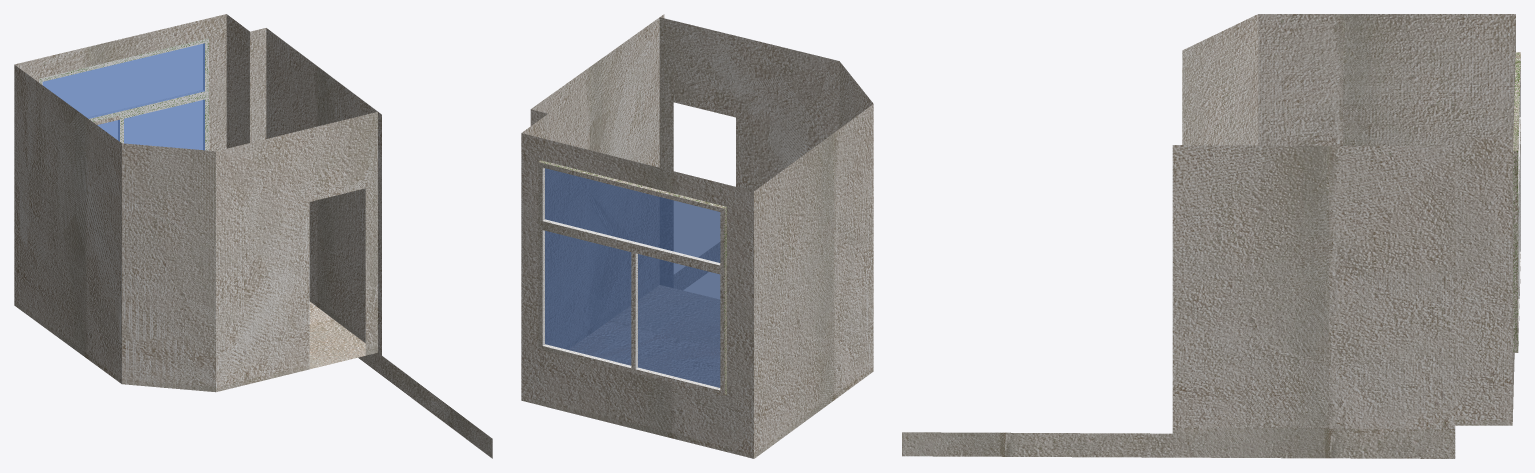
File: DES022.obj
The picture shows the model from 3 angles, left to right: view 1: azimuth 30°, elevation 25°; view 2: azimuth 150°, elevation 25°; view 3: azimuth 270°, elevation 25°; orthographic projection. The views are drawn at different scales.
Visible parts, largest first — view 1: Mesh7 DES022 Model, Mesh1 ventana1_1_1 DES022 Model; view 2: Mesh7 DES022 Model, Mesh1 ventana1_1_1 DES022 Model; view 3: Mesh7 DES022 Model, Mesh1 ventana1_1_1 DES022 Model.
Part boxes in pixels (x1,y1,x2,y2): Mesh7 DES022 Model: (14,14,492,458); Mesh1 ventana1_1_1 DES022 Model: (39,38,208,150); Mesh7 DES022 Model: (521,14,873,458); Mesh1 ventana1_1_1 DES022 Model: (538,160,726,395); Mesh7 DES022 Model: (902,14,1515,458); Mesh1 ventana1_1_1 DES022 Model: (1513,52,1520,352).
Size of the model in its own units: 2.95 by 3.25 by 5.83.
7 materials, 3 textured.
